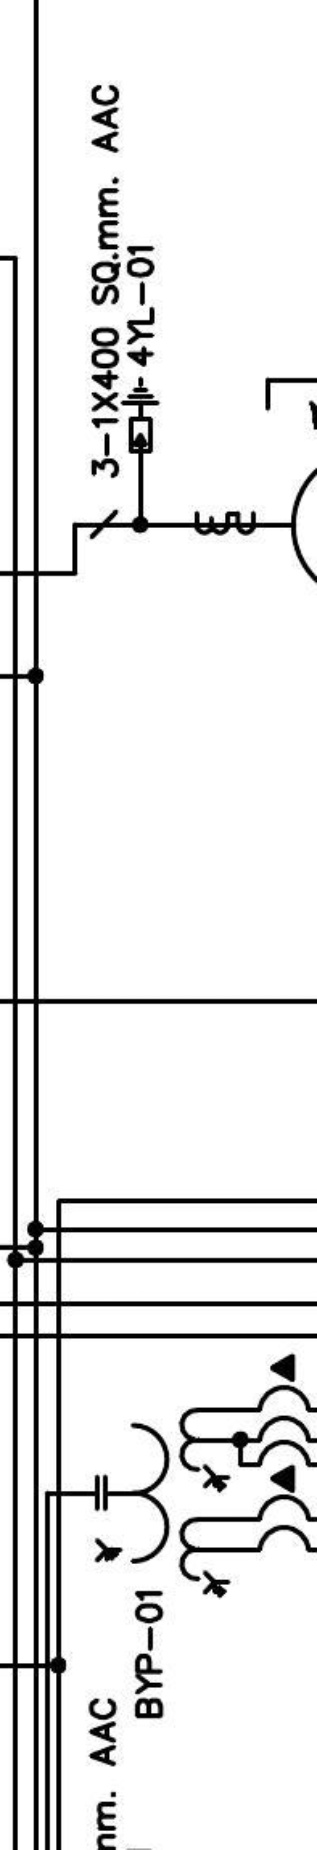115_cvt_3p: (94, 1406, 232, 1600)
115_la: (120, 375, 161, 454)
